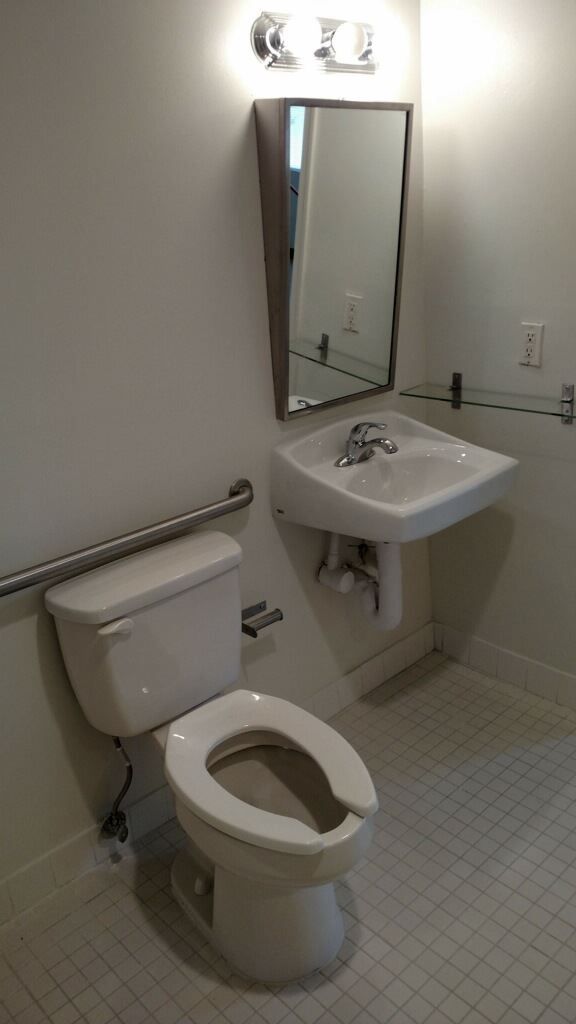faucet: (333, 422, 400, 468)
restroom_assist_bar: (1, 478, 254, 598)
sink: (269, 409, 516, 544)
toilet: (45, 553, 381, 985)
toilet_handle: (95, 613, 138, 642)
